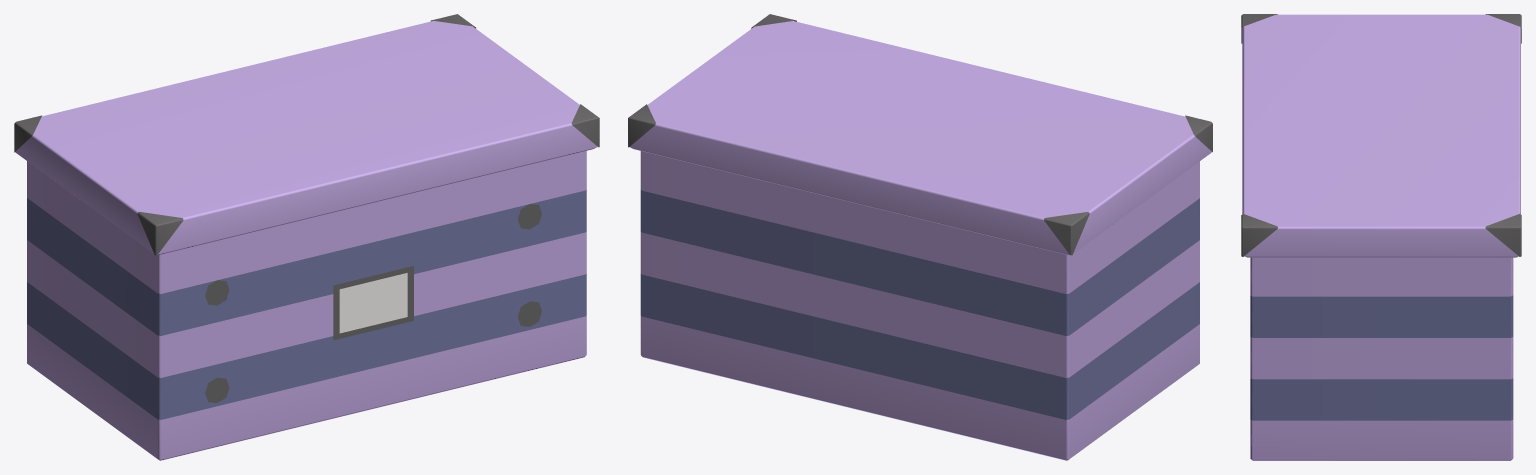
File: Storage_box_2.glb
3 renders of one model, left to right at view 1: azimuth 30°, elevation 25°; view 2: azimuth 150°, elevation 25°; view 3: azimuth 270°, elevation 25°, orthographic.
Visible parts, largest first — view 1: Storage_box_2; view 2: Storage_box_2; view 3: Storage_box_2.
Boxes of the visible parts, x1,y1,x2,y2 form: Storage_box_2: (14,14,599,460); Storage_box_2: (628,14,1212,460); Storage_box_2: (1241,14,1521,460).
Size of the model in its own units: 0.4202 by 0.2186 by 0.2327.
1 material, 1 textured.
